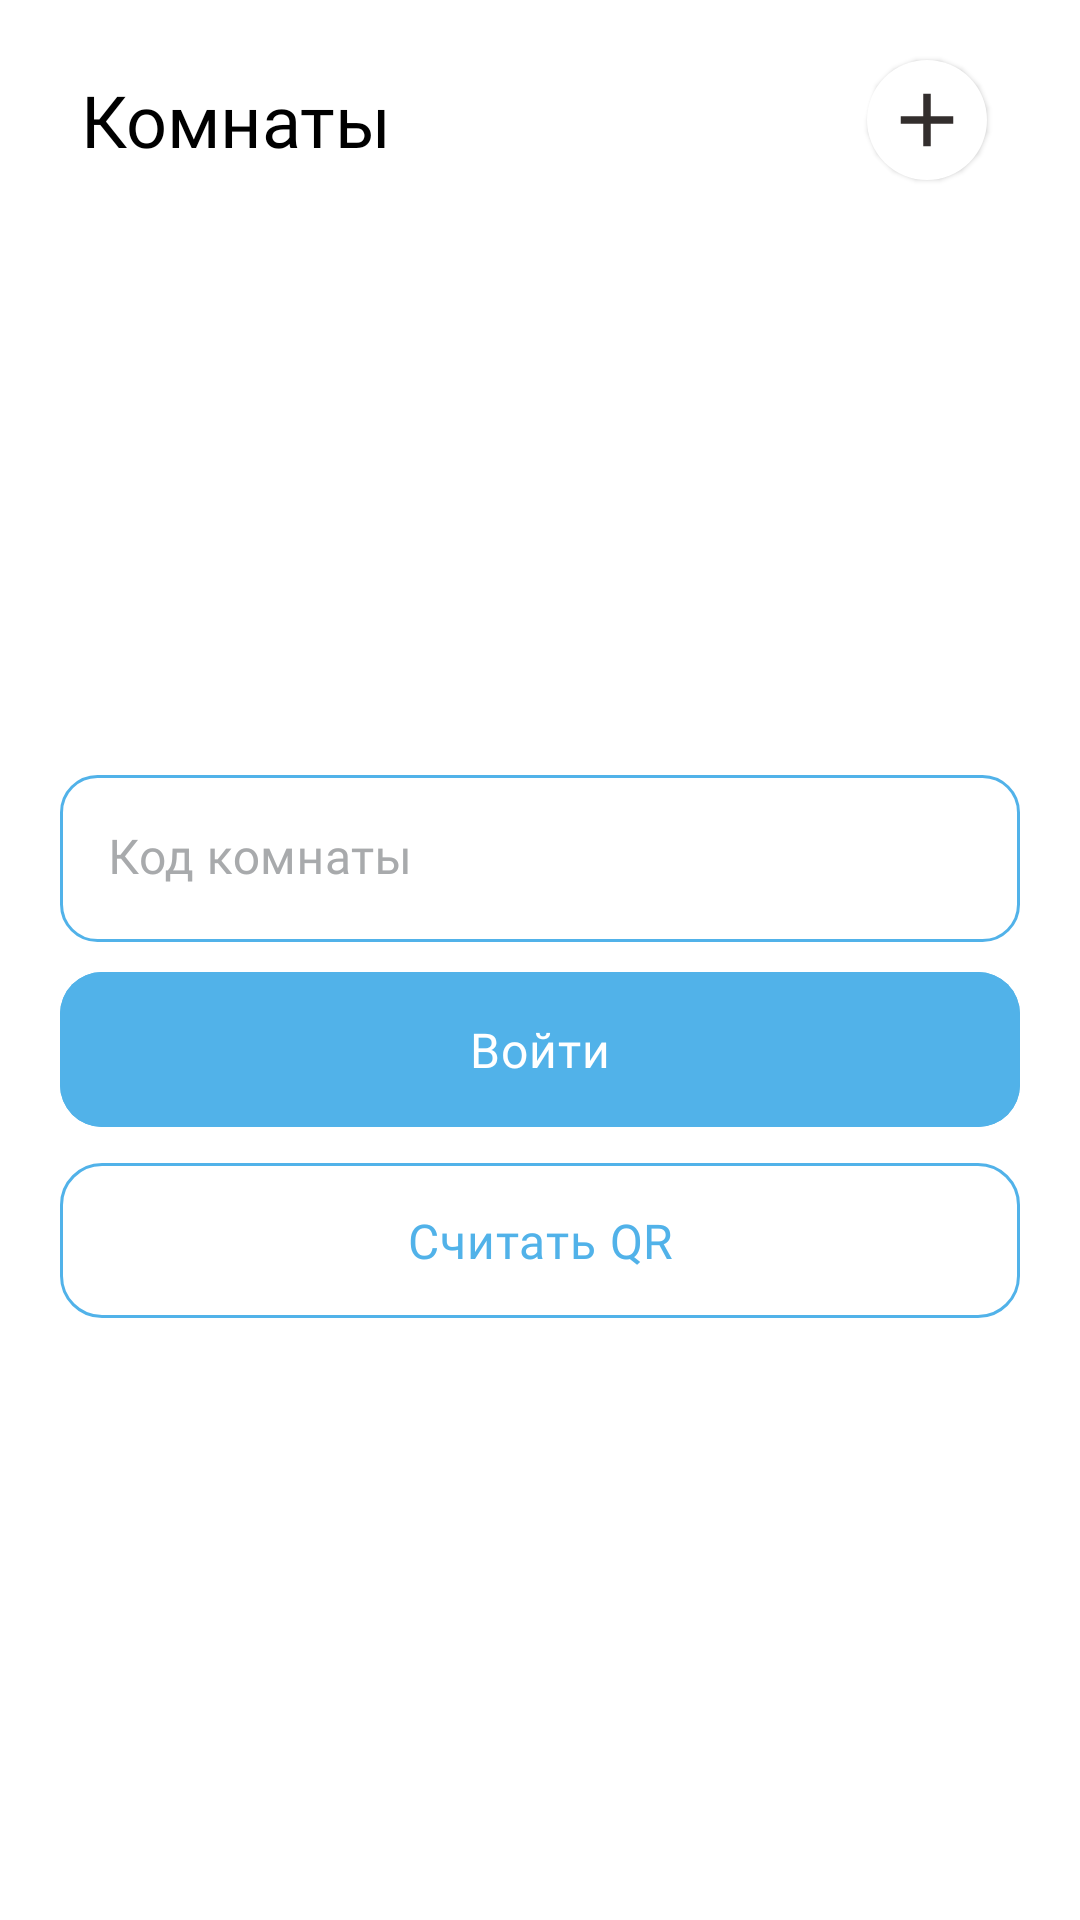

Point at icon controls on the screen. Image size 1080x1920, points as (x=x, y=y).
add: (x=943, y=125)
